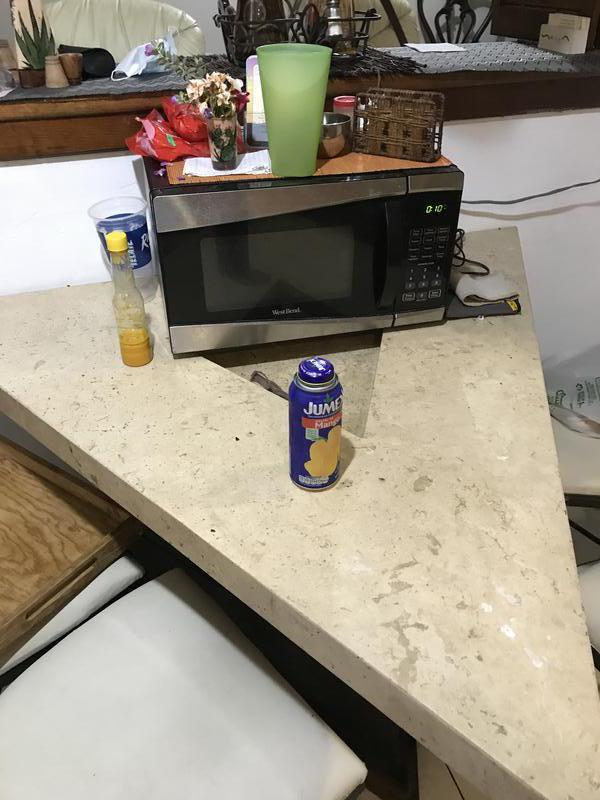jugo_jumex: (289, 357, 344, 488)
